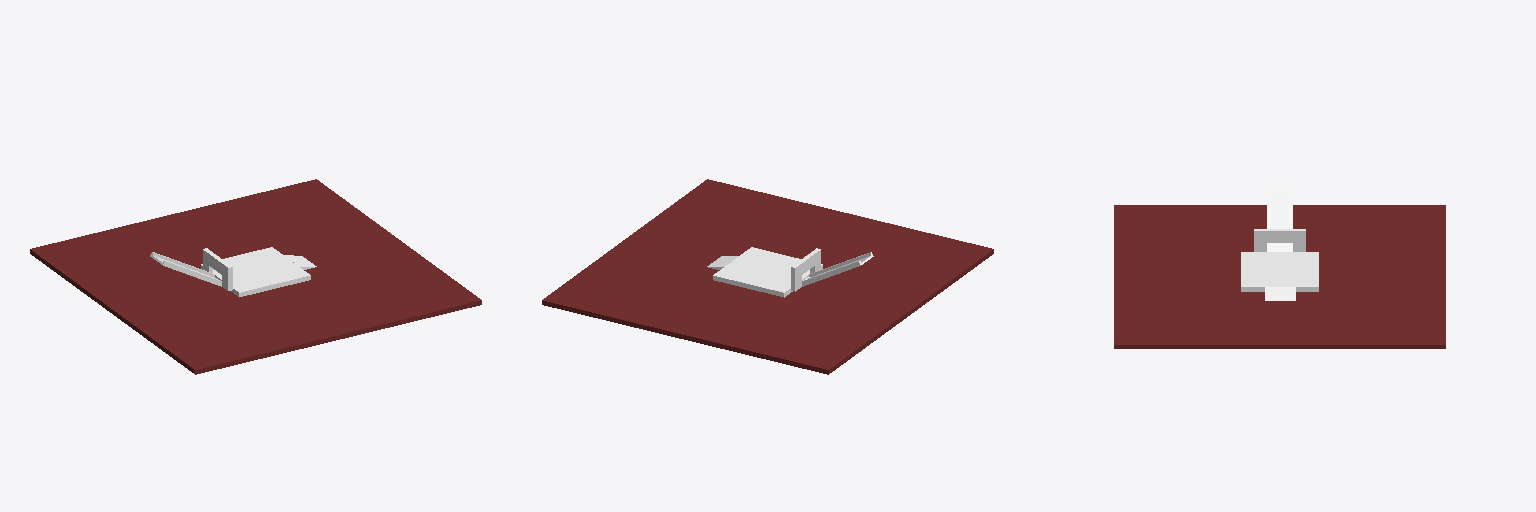
Rendered from FloorTutorial.obj.
3 renders of one model, left to right at view 1: azimuth 30°, elevation 25°; view 2: azimuth 150°, elevation 25°; view 3: azimuth 270°, elevation 25°, orthographic.
Visible parts, largest first — view 1: CSGCombiner; view 2: CSGCombiner; view 3: CSGCombiner.
Boxes of the visible parts, box(x1,y1,x2,y2) form: CSGCombiner: box(30, 179, 481, 374); CSGCombiner: box(542, 179, 993, 374); CSGCombiner: box(1114, 185, 1445, 348).
Bounding box in the file's own units: 128 × 19.89 × 128.